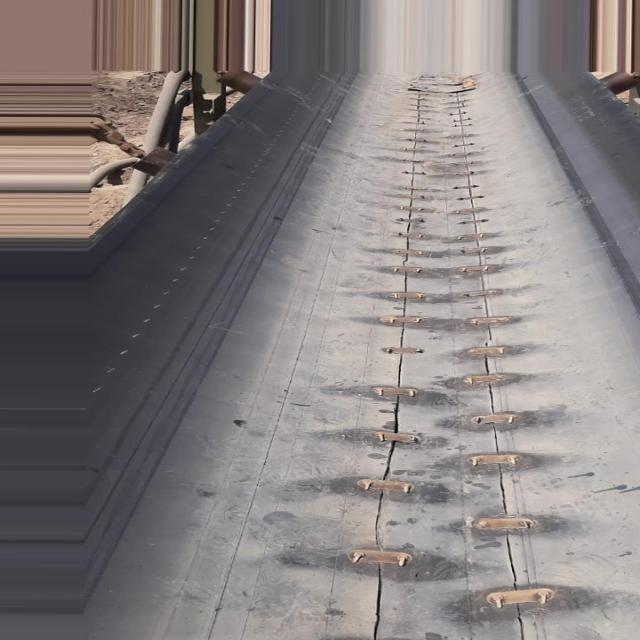Roller: (218, 70, 275, 93), (131, 147, 179, 167)
patch work: (325, 64, 609, 632)
